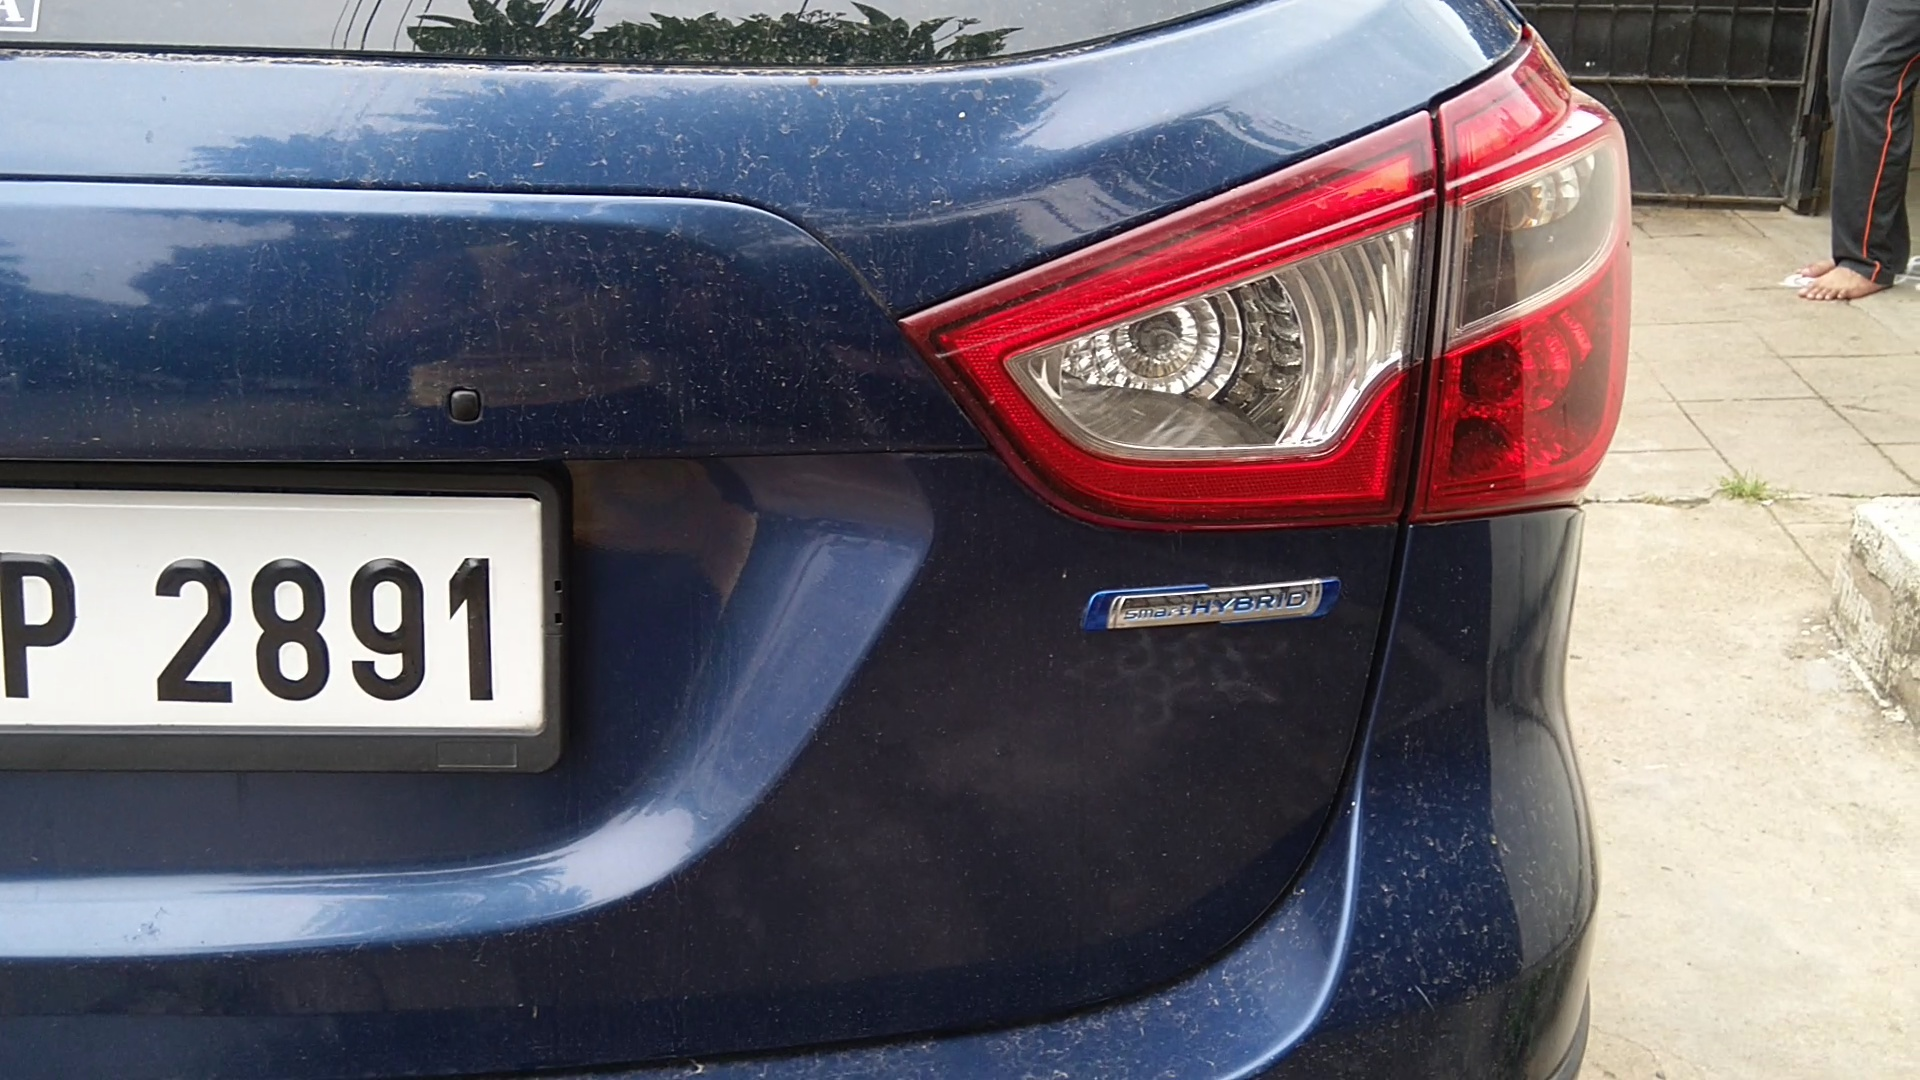shvs: (1069, 560, 1370, 661)
